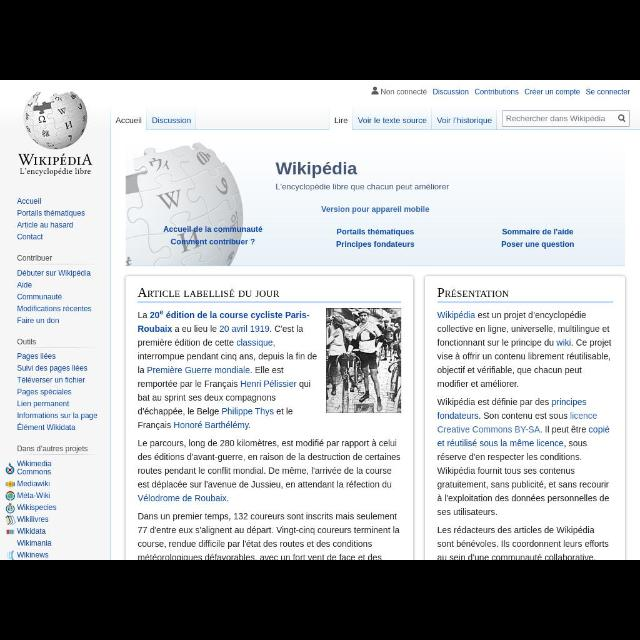backgroundimage: (124, 137, 248, 266)
icon: (2, 528, 18, 536), (4, 504, 16, 514), (5, 516, 17, 526), (3, 492, 15, 501), (6, 462, 14, 474), (4, 480, 16, 488), (4, 551, 16, 559), (371, 86, 379, 94), (618, 114, 626, 122)
image: (326, 308, 402, 414), (22, 88, 90, 150)
input: (502, 110, 630, 126)
link: (162, 225, 264, 247), (334, 226, 418, 248), (500, 227, 576, 247), (150, 312, 310, 321), (435, 438, 565, 449), (436, 424, 542, 434), (137, 493, 229, 503), (320, 206, 430, 214), (146, 366, 252, 374), (173, 420, 251, 430), (18, 412, 98, 421), (16, 458, 54, 476), (17, 304, 93, 312), (17, 364, 91, 372), (15, 220, 74, 230), (18, 422, 76, 432), (17, 386, 74, 396), (17, 208, 87, 216), (18, 375, 88, 383), (357, 116, 427, 124), (15, 400, 70, 410), (240, 379, 298, 388), (222, 406, 274, 416), (436, 411, 482, 422), (438, 116, 492, 125), (17, 292, 63, 302), (17, 270, 92, 276), (219, 325, 271, 333), (552, 397, 588, 408), (525, 88, 581, 95), (15, 316, 61, 324), (586, 88, 632, 96), (18, 352, 56, 361), (436, 310, 476, 318), (152, 116, 192, 124), (475, 88, 519, 95), (16, 491, 52, 499), (17, 538, 53, 546), (432, 88, 468, 96), (138, 325, 174, 333), (18, 504, 56, 511), (16, 551, 49, 559), (17, 515, 49, 523), (16, 197, 44, 206), (236, 339, 272, 346), (17, 479, 51, 486), (16, 233, 46, 240), (16, 528, 46, 534), (556, 337, 572, 348), (588, 426, 610, 434), (570, 412, 598, 418), (17, 281, 33, 289)
multitab: (328, 112, 497, 130), (110, 112, 198, 130)
text: (135, 308, 317, 432), (432, 394, 614, 518), (136, 438, 404, 504), (435, 308, 615, 389), (135, 510, 405, 560), (433, 524, 615, 560), (16, 152, 94, 176), (275, 158, 359, 180), (274, 182, 450, 192), (138, 287, 282, 299), (436, 286, 510, 298), (506, 115, 606, 123), (16, 444, 88, 454), (17, 254, 55, 264), (382, 88, 428, 95), (16, 336, 38, 346)
